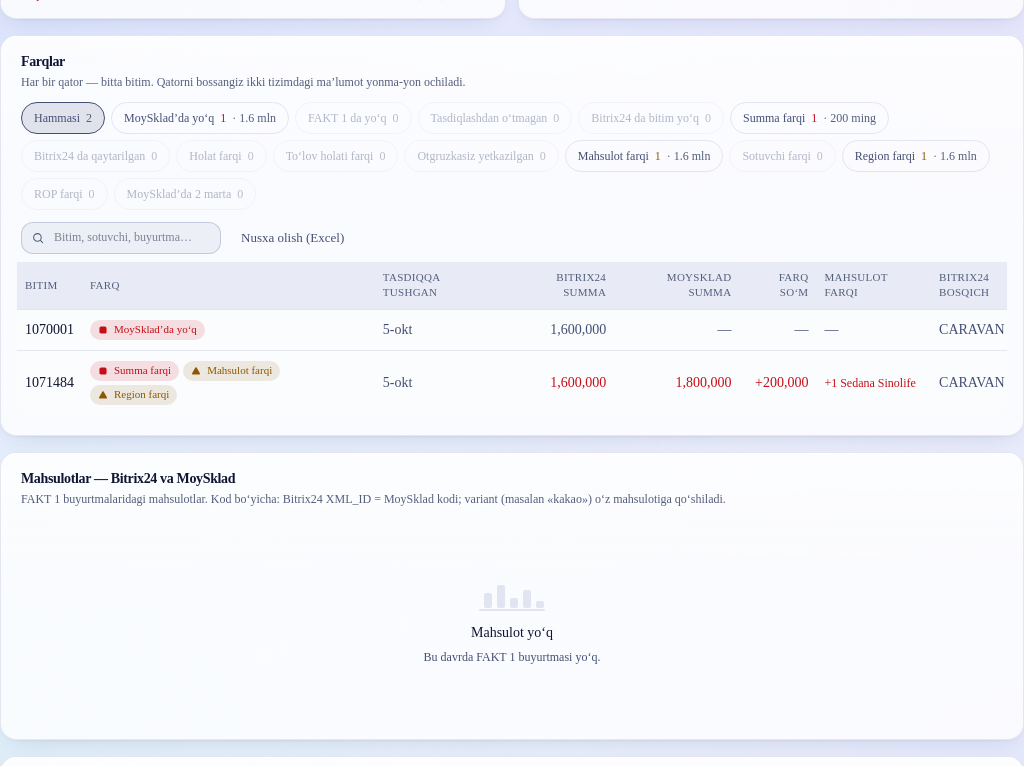
Scenario: SverkaBody — the difference list › opens both sides field by field, with the products beside each other and the other order
(page scrolled)
Click the column heading "1071484" at (50, 383), box [17,351,82,415]
(page scrolled)
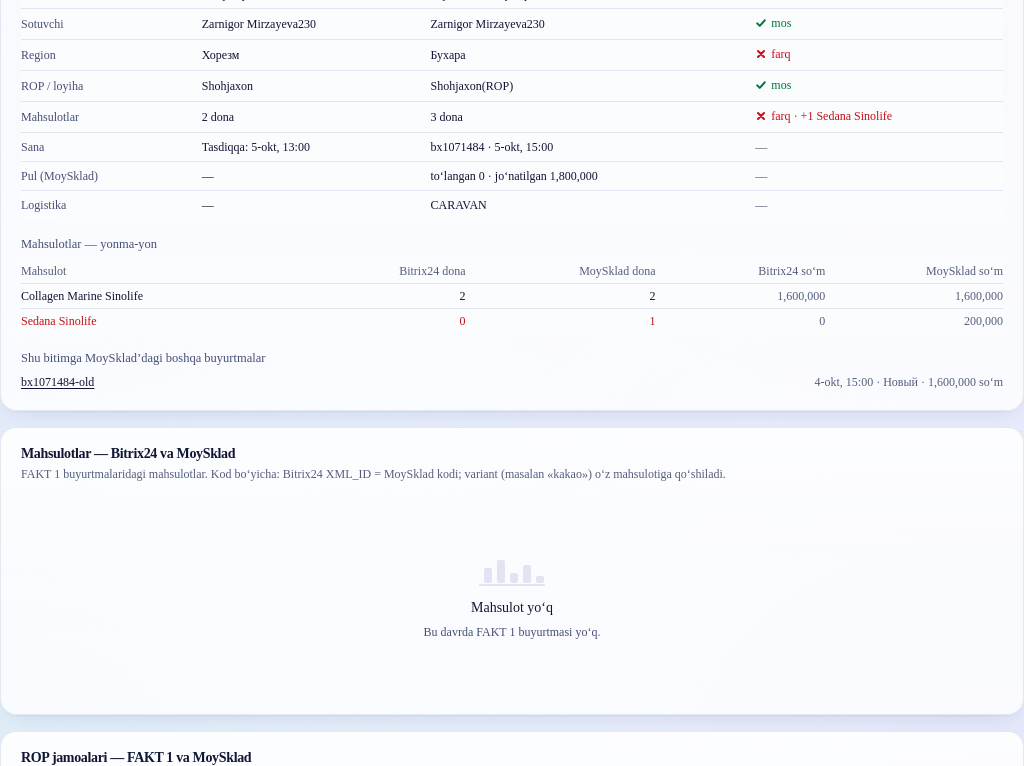
expect the text "farq" is shown: met, box [755,46,791,62]
expect the 1st text "mos" is shown: met, box [755,15,791,31]
expect the heading "Mahsulotlar — yonma-yon" is shown: met, box [21,237,157,251]
